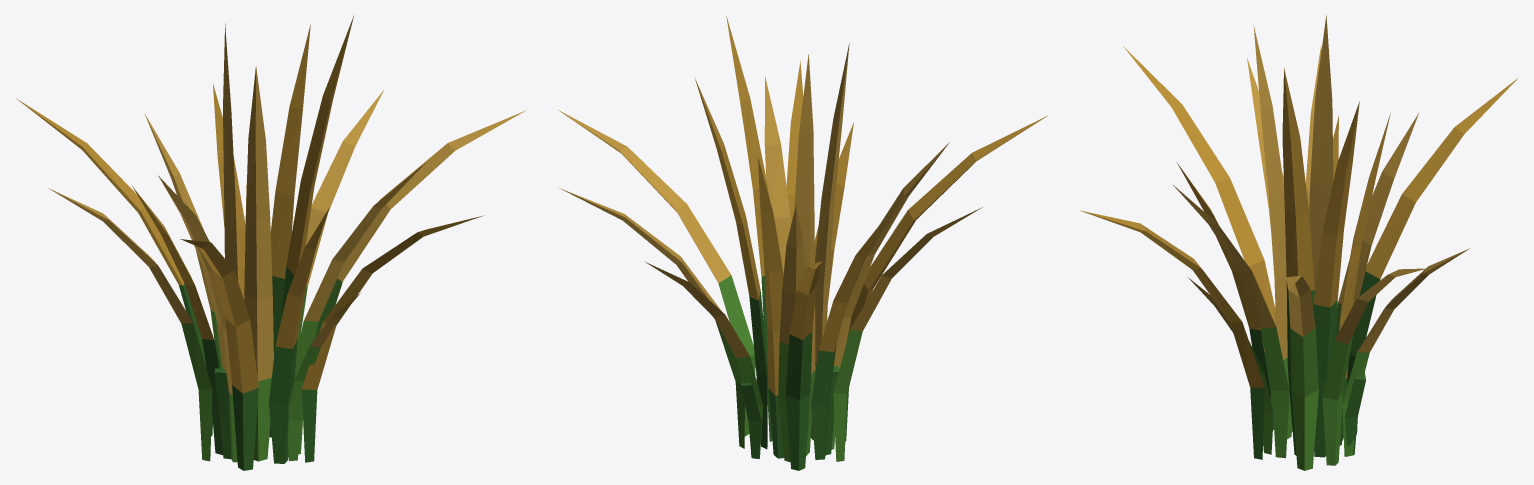
The model's file is grass-tuft-62e90c.glb.
3 views of the same model, side by side, from view 1: azimuth 30°, elevation 25°; view 2: azimuth 150°, elevation 25°; view 3: azimuth 270°, elevation 25° (orthographic). The views are drawn at different scales.
Parts seen in each view (by area): view 1: grass-tuft-mesh; view 2: grass-tuft-mesh; view 3: grass-tuft-mesh.
Part boxes in pixels (x1,y1,x2,y2): grass-tuft-mesh: [16, 16, 526, 470]; grass-tuft-mesh: [557, 16, 1047, 470]; grass-tuft-mesh: [1079, 15, 1518, 470].
Size of the model in its own units: 0.3385 by 0.2958 by 0.2827.
